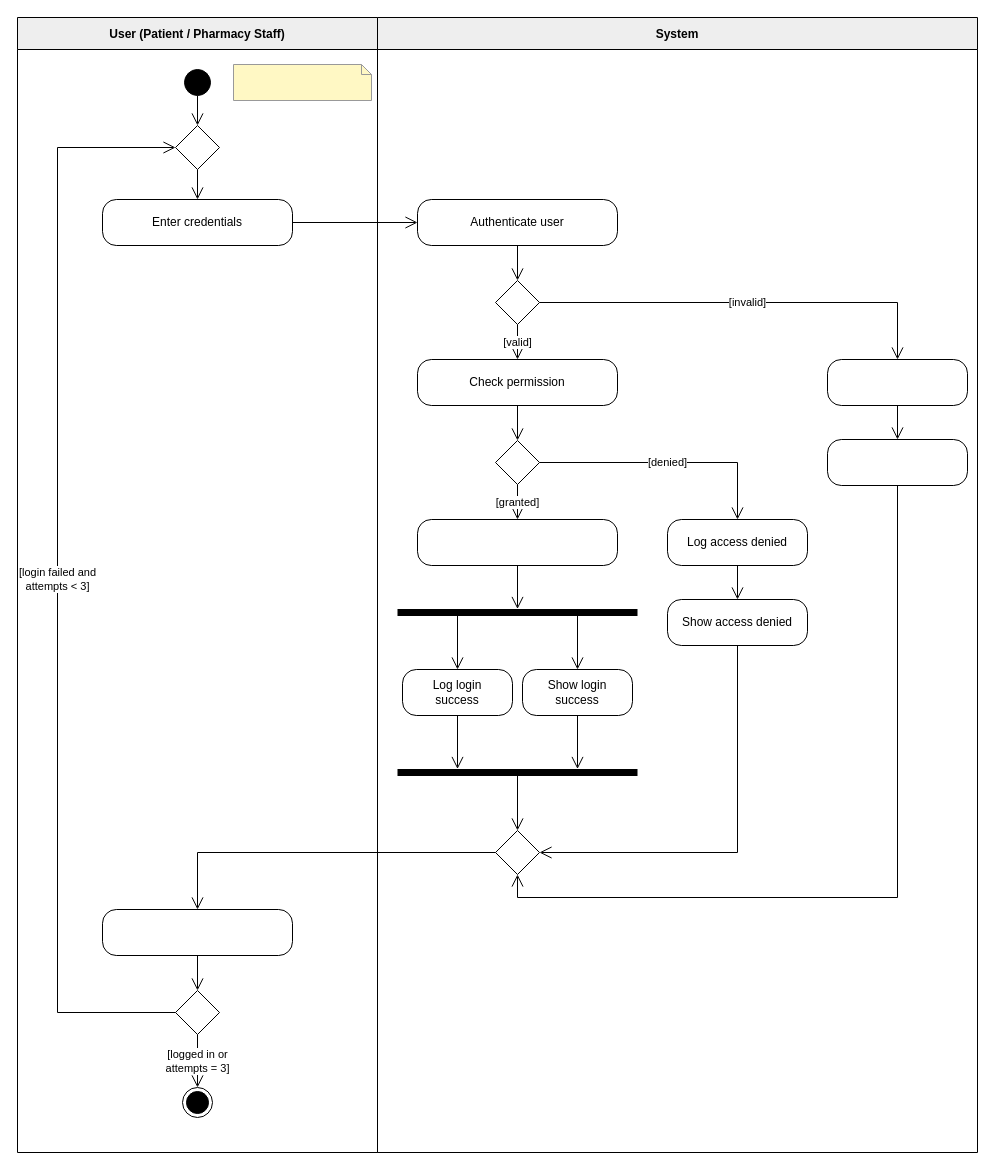
The diagram is 995 pixels wide and 1170 high, and some of its shapes have lost their labels. The centre of each missing label's shape, as x and y in pixels:
"Actor: Patient or Pharmacy Staff (UC-02)" belongs at (x=302, y=82).
"Create session" belongs at (x=517, y=542).
"Log failed login" belongs at (x=897, y=382).
"Show login error" belongs at (x=897, y=462).
"View result" belongs at (x=197, y=932).
